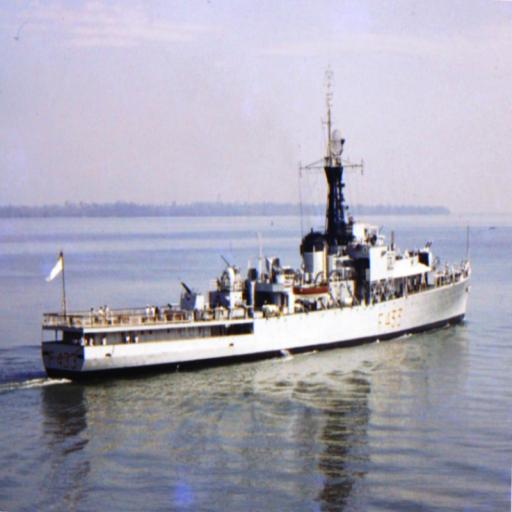Fragata: (41, 70, 479, 386)
